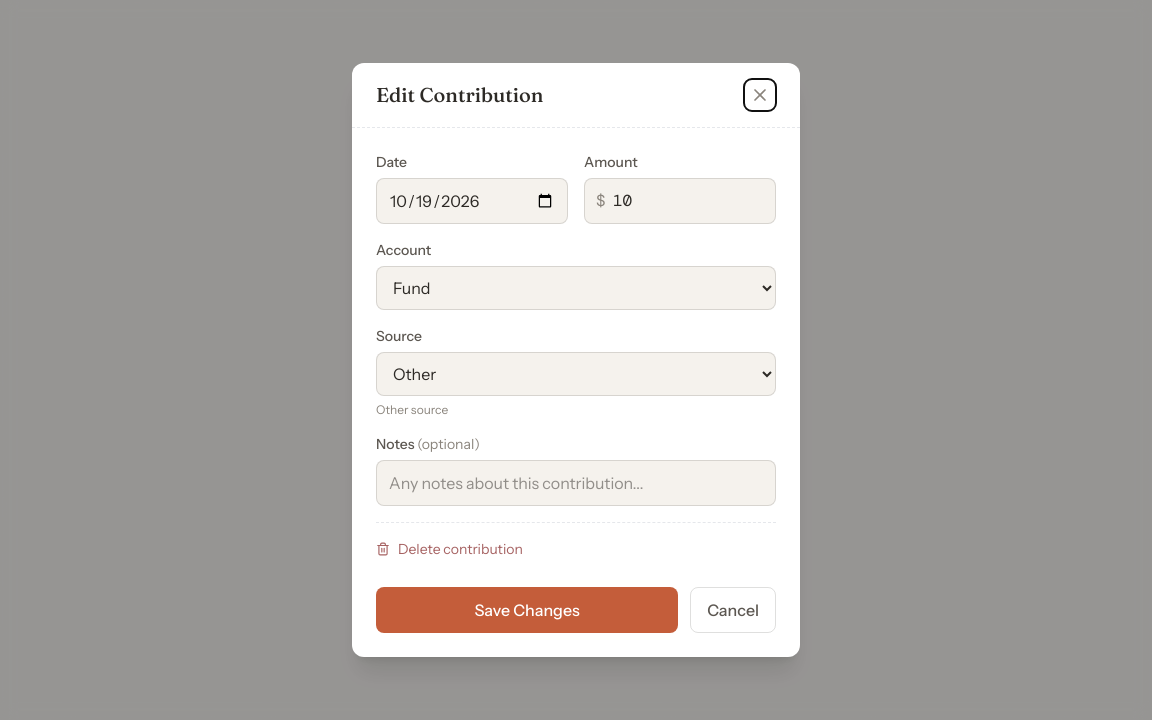
Scenario: blocks a blank contribution date in the edit form
The width and height of the screenshot is (1152, 720).
Replace the text in the field labelled "Amount" with "25". click: (680, 201)
box: [584,178,776,224]
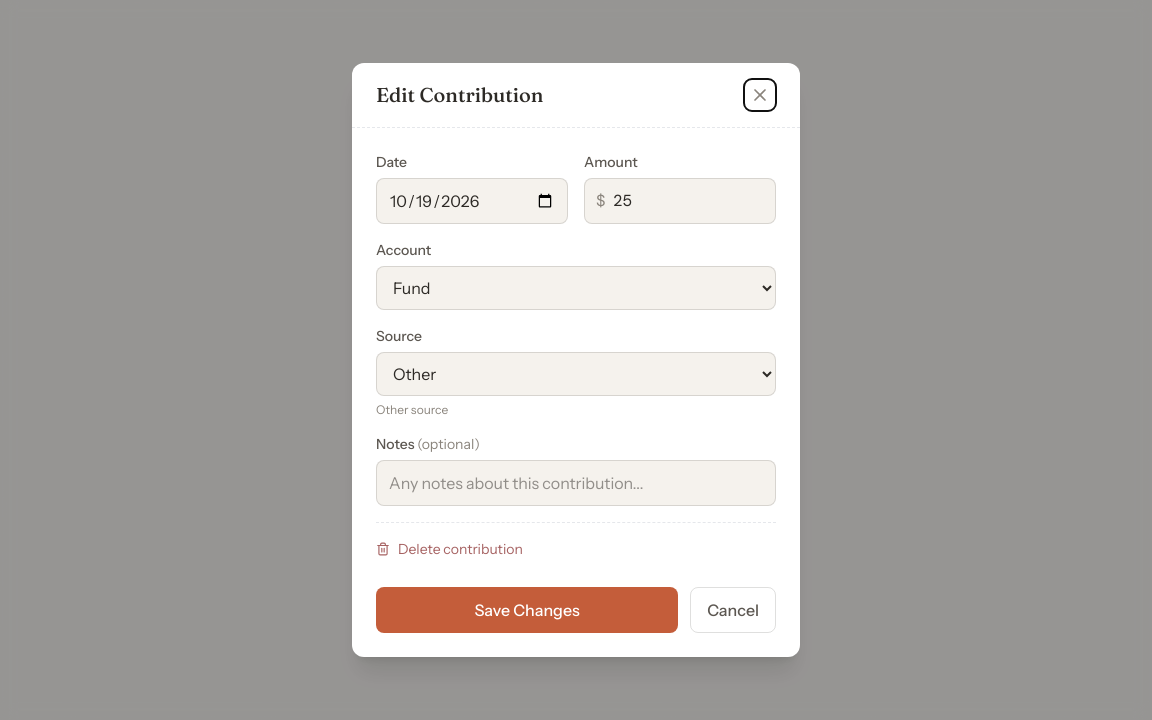
Clear the date field labelled "Date". click: (472, 201)
box: [376,178,568,224]
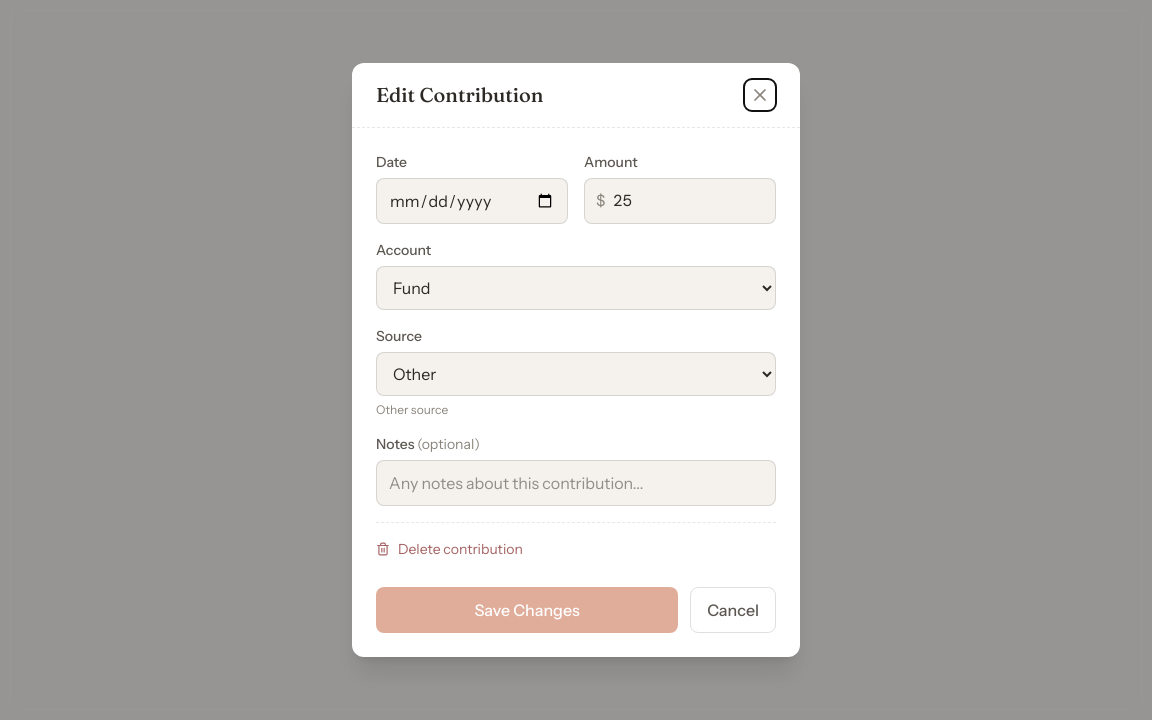
Submit the form, box [352,128,800,657]
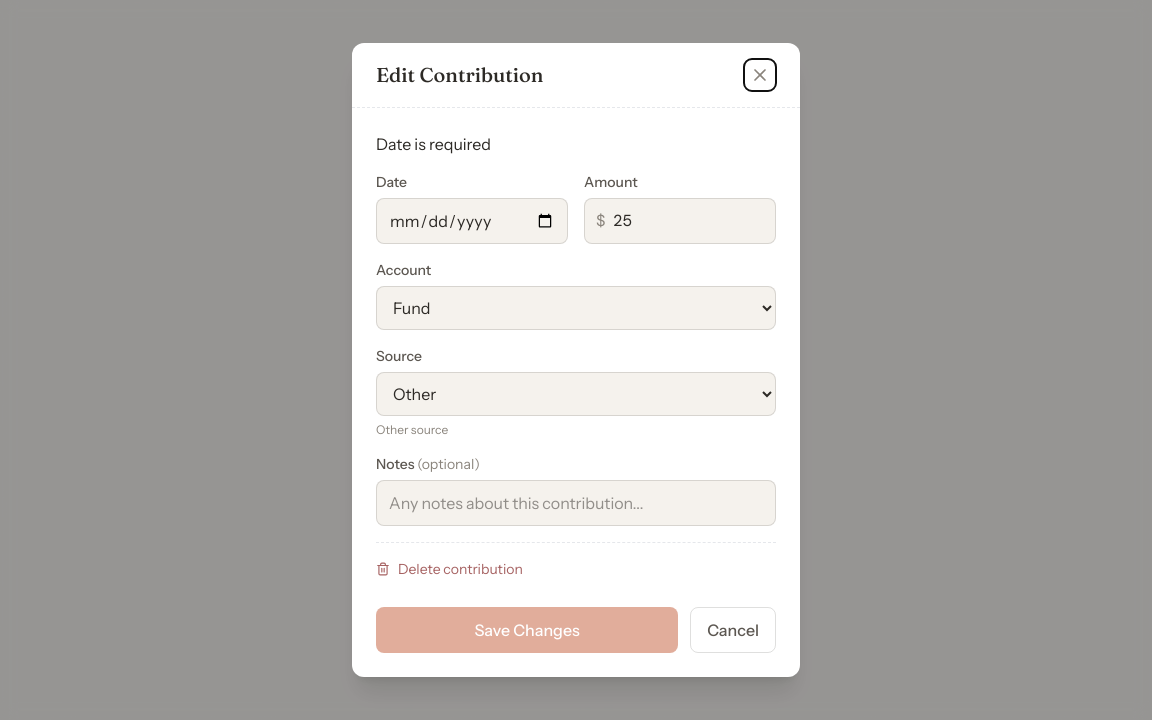
Result: the message reads "Date is required" at [376,134,491,154]
